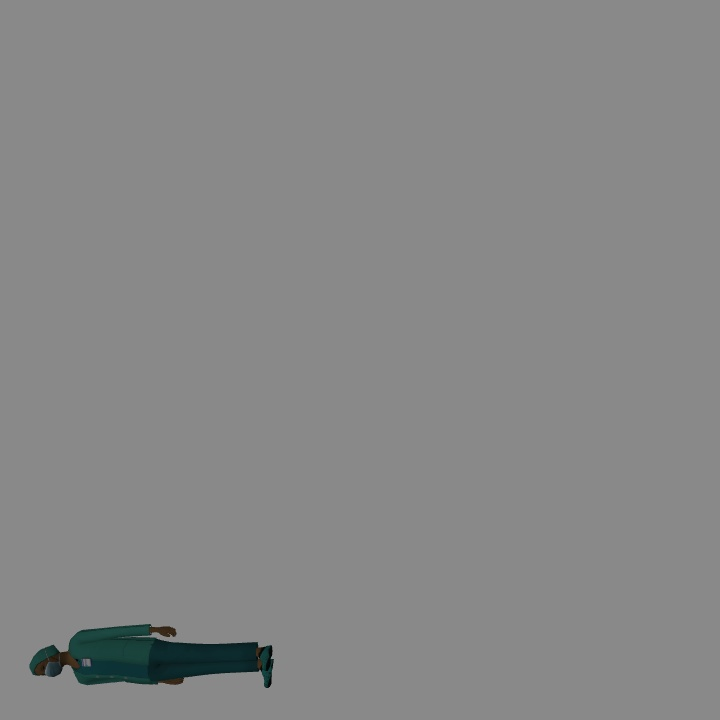victim: (31, 621, 274, 687)
